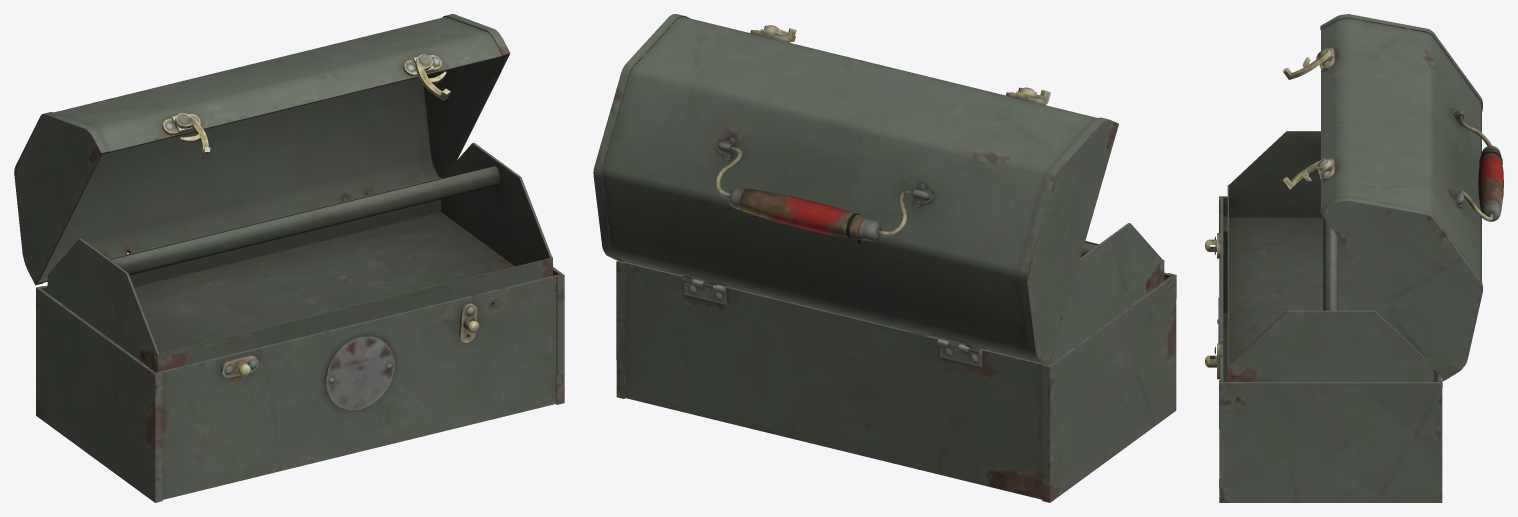
The model's file is metal_toolbox.glb.
3 renders of one model, left to right at view 1: azimuth 30°, elevation 25°; view 2: azimuth 150°, elevation 25°; view 3: azimuth 270°, elevation 25°, orthographic. The views are drawn at different scales.
Parts seen in each view (by area): view 1: metal_toolbox; view 2: metal_toolbox; view 3: metal_toolbox.
Boxes of the visible parts, x1,y1,x2,y2 form: metal_toolbox: (14, 14, 564, 502); metal_toolbox: (593, 14, 1176, 502); metal_toolbox: (1205, 14, 1503, 502).
Size of the model in its own units: 0.4 by 0.3047 by 0.2705.
Materials: 1 (1 with a texture image).
